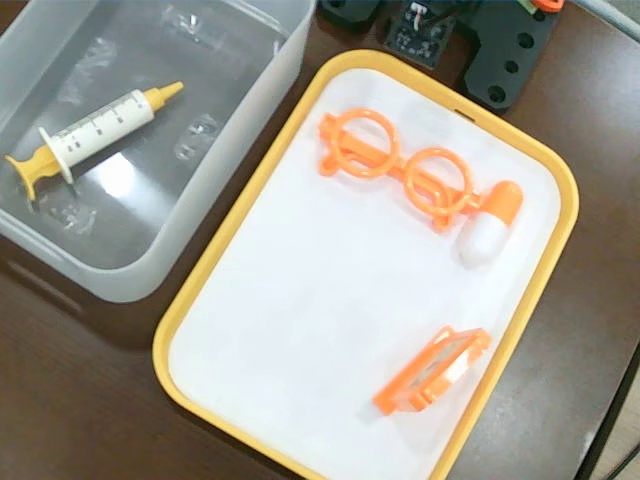pill: (455, 180, 526, 266)
syringe: (3, 79, 185, 201)
